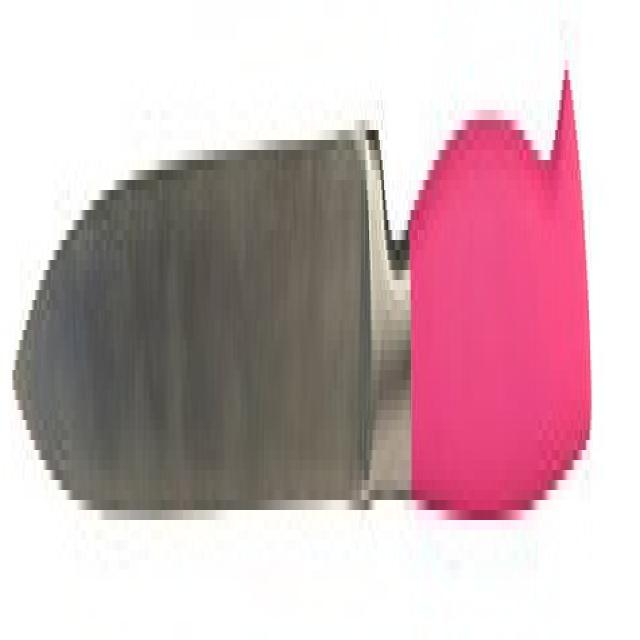knife: (11, 36, 601, 525)
